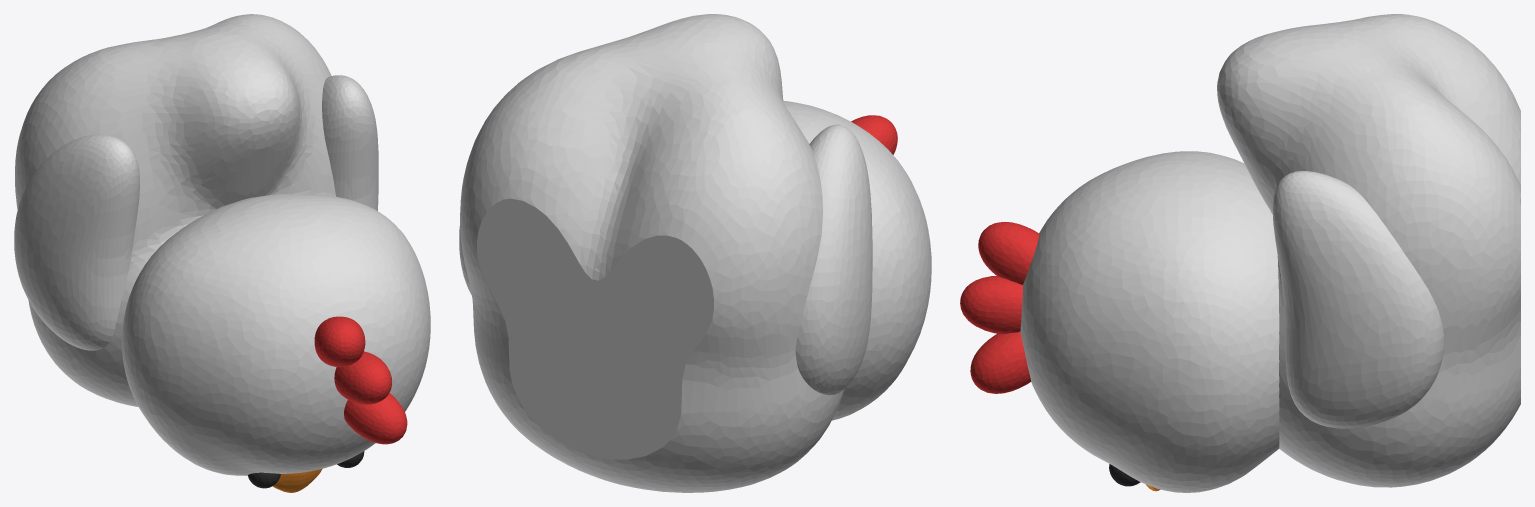
File: chicken.all.glb
The picture shows the model from 3 angles, left to right: view 1: azimuth 30°, elevation 25°; view 2: azimuth 150°, elevation 25°; view 3: azimuth 270°, elevation 25°; orthographic projection. The views are drawn at different scales.
Parts seen in each view (by area): view 1: Cube.653; view 2: Cube.653; view 3: Cube.653.
Part boxes in pixels (x1=…): Cube.653: x1=14, y1=14, x2=430, y2=492; Cube.653: x1=459, y1=14, x2=931, y2=492; Cube.653: x1=960, y1=14, x2=1520, y2=492.
Bounding box in the file's own units: 17.2 × 19.33 × 21.66.
